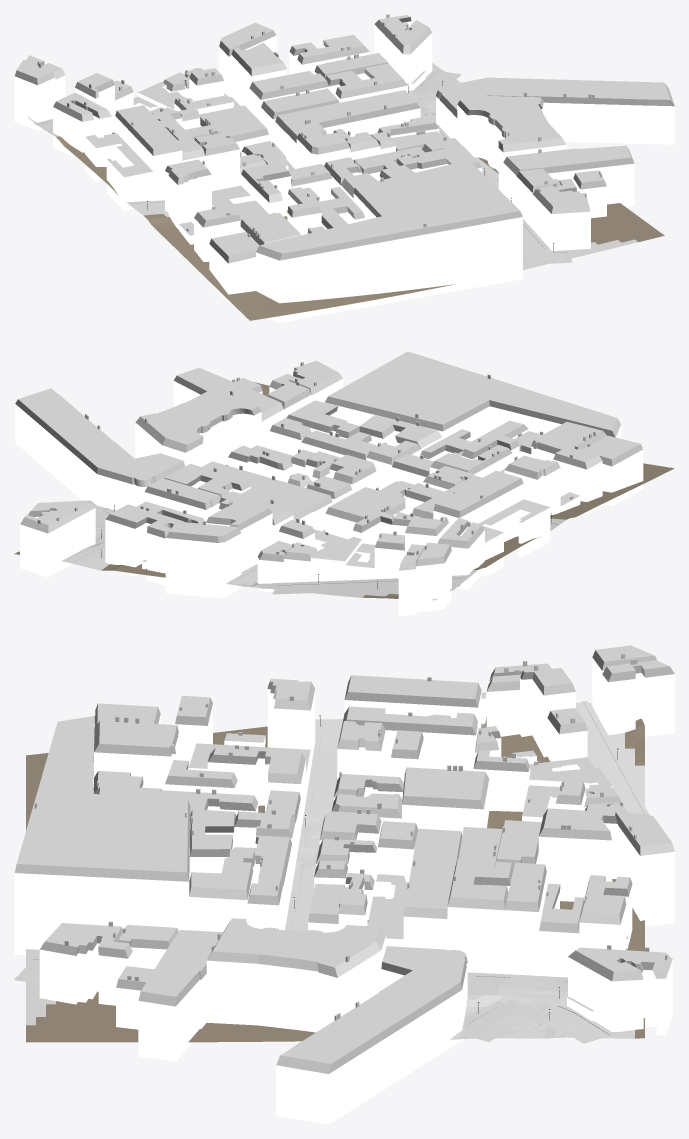
File: zone_G4.glb
3 renders of one model, top to bottom at view 1: azimuth 30°, elevation 25°; view 2: azimuth 150°, elevation 25°; view 3: azimuth 270°, elevation 25°, orthographic. The views are drawn at different scales.
Parts seen in each view (by area): view 1: zone_G4_batiments, zone_G4_terrain, zone_G4_sol_NOCOL; view 2: zone_G4_batiments, zone_G4_terrain, zone_G4_sol_NOCOL; view 3: zone_G4_batiments, zone_G4_terrain, zone_G4_sol_NOCOL.
Part boxes in pixels (left/top/right/bottom): zone_G4_batiments: left=14, top=14, right=674, bottom=322; zone_G4_terrain: left=28, top=63, right=664, bottom=320; zone_G4_sol_NOCOL: left=34, top=69, right=572, bottom=265; zone_G4_batiments: left=15, top=351, right=643, bottom=616; zone_G4_terrain: left=14, top=382, right=674, bottom=600; zone_G4_sol_NOCOL: left=72, top=503, right=559, bottom=594; zone_G4_batiments: left=14, top=645, right=674, bottom=1124; zone_G4_terrain: left=26, top=703, right=644, bottom=1042; zone_G4_sol_NOCOL: left=14, top=701, right=649, bottom=1043.
Bounding box in the file's own units: 245 × 46.41 × 198.
